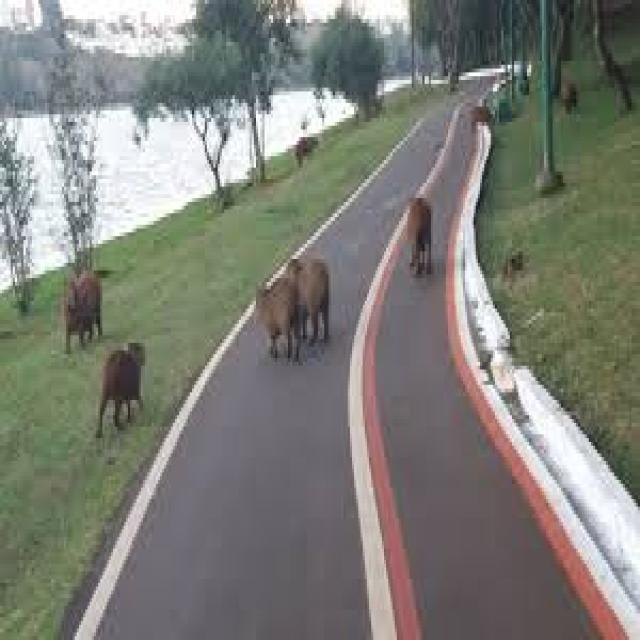capy: (96, 338, 146, 444), (291, 253, 333, 349), (60, 267, 104, 352), (253, 273, 294, 362), (404, 192, 434, 283)
